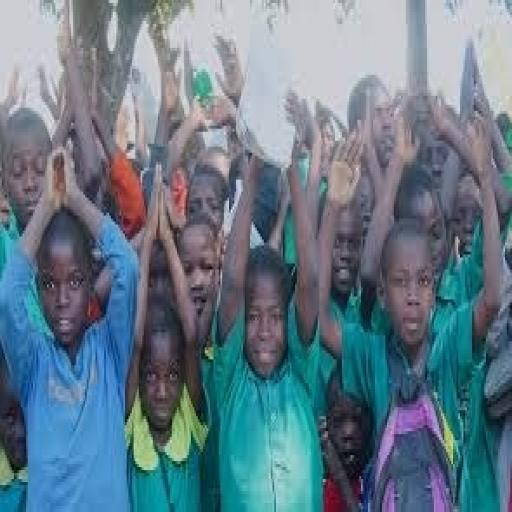clapping: (2, 24, 508, 509)
